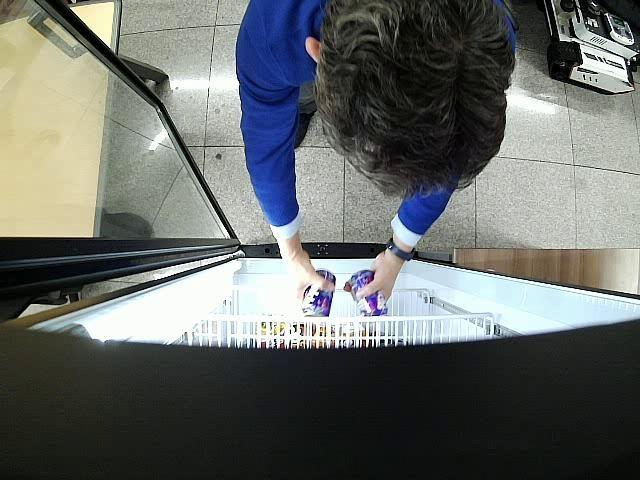14_welchsGrape: (350, 270, 390, 316), (302, 270, 334, 318)
